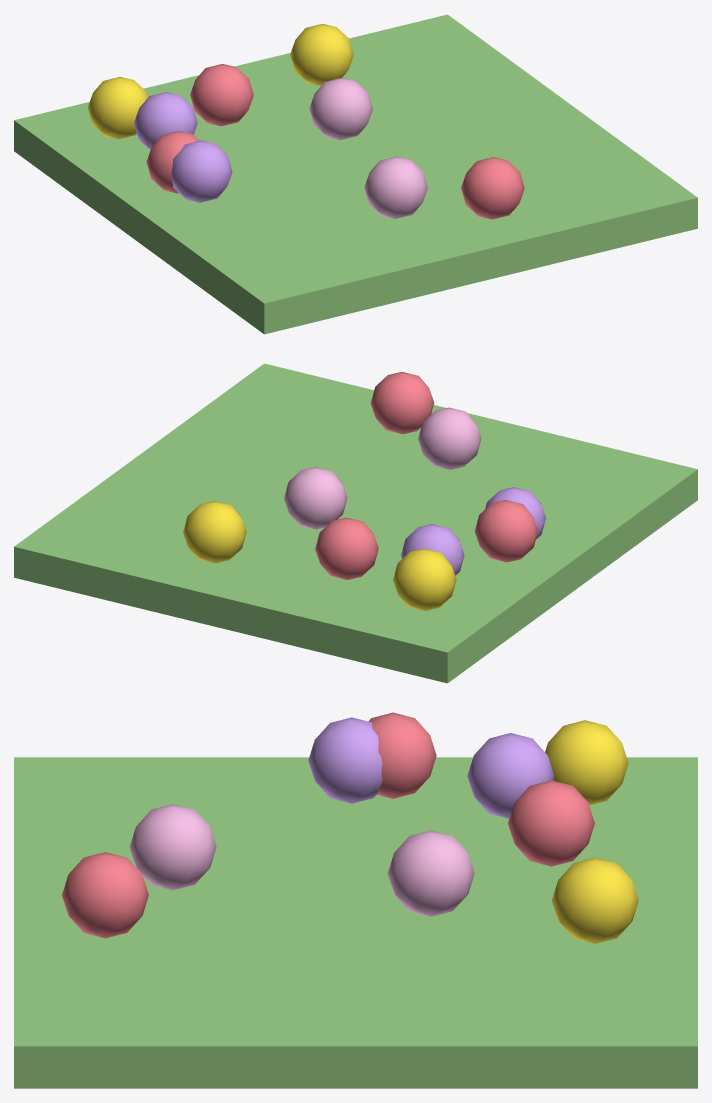
Rendered from taman_bunga.glb.
3 renders of one model, top to bottom at view 1: azimuth 30°, elevation 25°; view 2: azimuth 150°, elevation 25°; view 3: azimuth 270°, elevation 25°, orthographic. The views are drawn at different scales.
Size of the model in its own units: 2.2 by 0.42 by 2.2.
